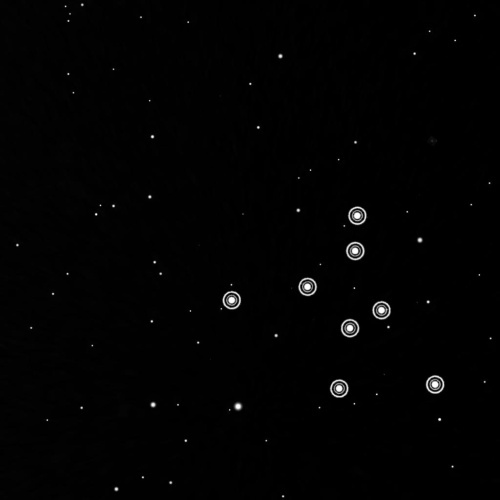hercules: (219, 202, 448, 403)
